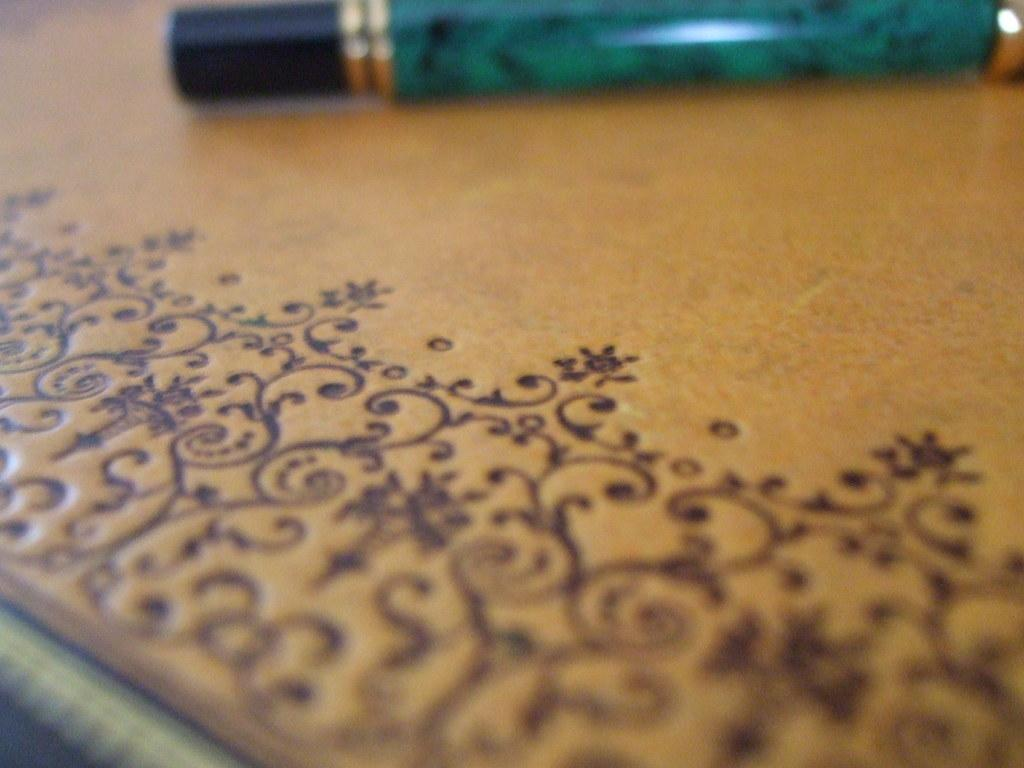pen: (166, 0, 1023, 107)
